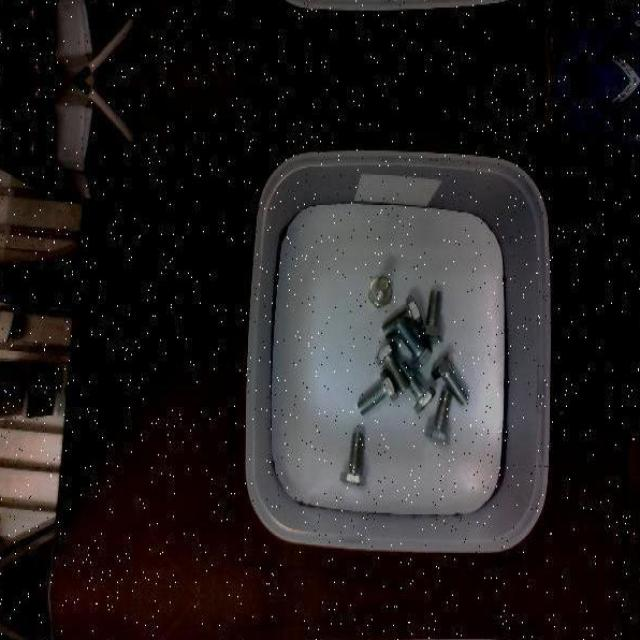screw: (430, 352, 469, 406), (356, 368, 398, 416), (395, 316, 433, 369), (375, 339, 410, 394), (424, 390, 452, 446), (339, 429, 365, 484), (418, 290, 443, 344), (368, 275, 393, 308)
